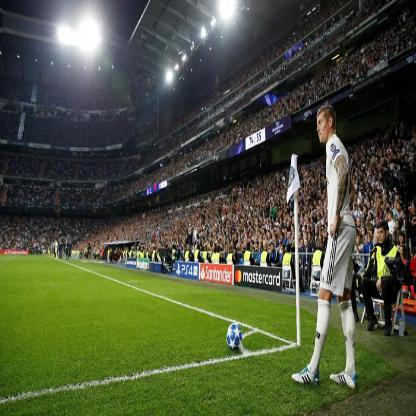corner kick: (221, 93, 369, 386)
